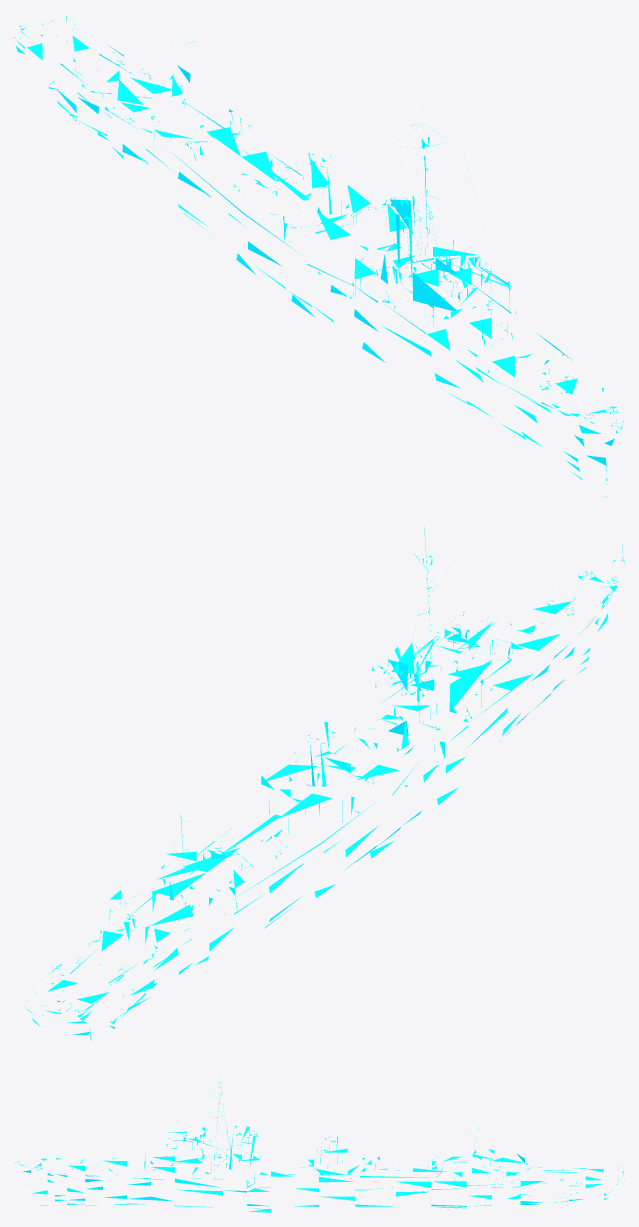
The model's file is Provorny.glb.
3 renders of one model, top to bottom at view 1: azimuth 30°, elevation 25°; view 2: azimuth 150°, elevation 25°; view 3: azimuth 270°, elevation 25°, orthographic. The views are drawn at different scales.
Size of the model in its own units: 0.7997 by 2.1 by 8.48.
